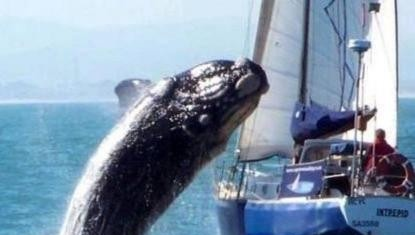fish: (53, 54, 272, 235)
